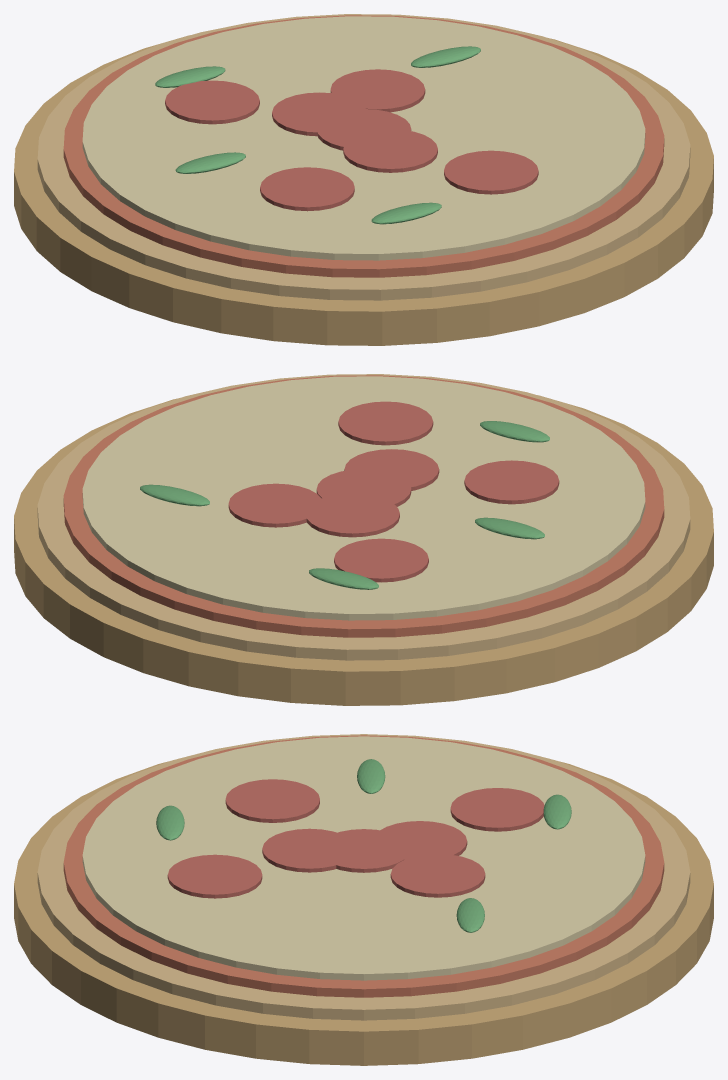
File: pizza.glb
The picture shows the model from 3 angles, top to bottom: view 1: azimuth 30°, elevation 25°; view 2: azimuth 150°, elevation 25°; view 3: azimuth 270°, elevation 25°; orthographic projection.
Visible parts, largest first — view 1: pizza_03, pizza_00, pizza_01, pizza_02, pizza_06, pizza_08, pizza_07, pizza_10, pizza_05, pizza_09, pizza_04, pizza_11 (+3 smaller); view 2: pizza_03, pizza_00, pizza_01, pizza_02, pizza_07, pizza_08, pizza_05, pizza_06, pizza_09, pizza_10, pizza_04, pizza_14 (+3 smaller); view 3: pizza_03, pizza_00, pizza_01, pizza_02, pizza_07, pizza_08, pizza_06, pizza_05, pizza_04, pizza_10, pizza_09, pizza_13 (+3 smaller).
Boxes of the visible parts, bbox=[...] form: pizza_03: bbox=[82, 16, 645, 260]; pizza_00: bbox=[14, 35, 713, 345]; pizza_01: bbox=[37, 14, 690, 300]; pizza_02: bbox=[63, 15, 664, 277]; pizza_06: bbox=[165, 80, 259, 124]; pizza_08: bbox=[444, 150, 538, 194]; pizza_07: bbox=[260, 167, 354, 211]; pizza_10: bbox=[343, 129, 437, 172]; pizza_05: bbox=[330, 69, 425, 112]; pizza_09: bbox=[272, 92, 366, 136]; pizza_04: bbox=[316, 109, 411, 150]; pizza_11: bbox=[411, 46, 480, 67]; pizza_03: bbox=[82, 376, 645, 620]; pizza_00: bbox=[14, 395, 713, 705]; pizza_01: bbox=[37, 374, 690, 660]; pizza_02: bbox=[63, 375, 664, 637]; pizza_07: bbox=[464, 460, 559, 504]; pizza_08: bbox=[338, 401, 433, 445]; pizza_05: bbox=[228, 483, 323, 527]; pizza_06: bbox=[334, 538, 428, 582]; pizza_09: bbox=[305, 493, 399, 537]; pizza_10: bbox=[344, 449, 439, 490]; pizza_04: bbox=[316, 469, 411, 508]; pizza_14: bbox=[309, 568, 378, 589]; pizza_03: bbox=[82, 736, 645, 980]; pizza_00: bbox=[14, 761, 713, 1065]; pizza_01: bbox=[37, 734, 690, 1020]; pizza_02: bbox=[63, 735, 664, 997]; pizza_07: bbox=[225, 779, 319, 822]; pizza_08: bbox=[167, 854, 262, 898]; pizza_06: bbox=[450, 788, 544, 831]; pizza_05: bbox=[390, 854, 485, 897]; pizza_04: bbox=[317, 829, 410, 872]; pizza_10: bbox=[262, 828, 337, 872]; pizza_09: bbox=[380, 821, 467, 860]; pizza_13: bbox=[156, 805, 184, 840].
Bounding box in the file's own units: 2.96 × 0.34 × 2.96.
